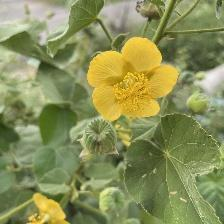indian mallow: (87, 37, 181, 124)
